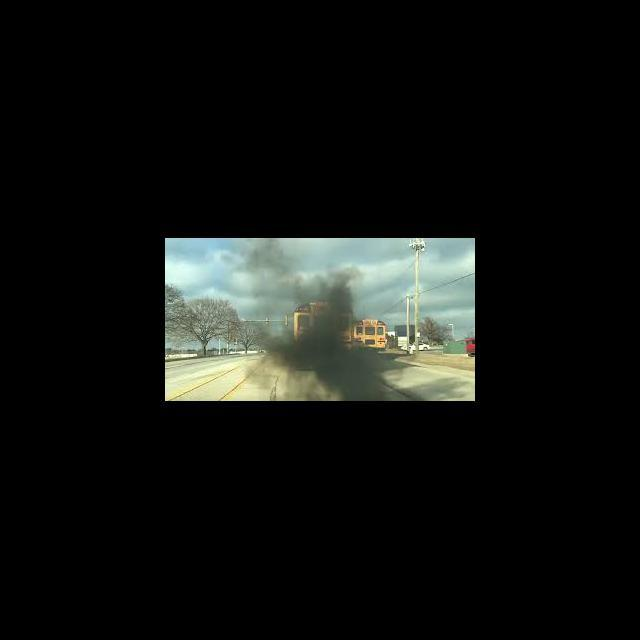Smoke: (238, 242, 379, 396)
